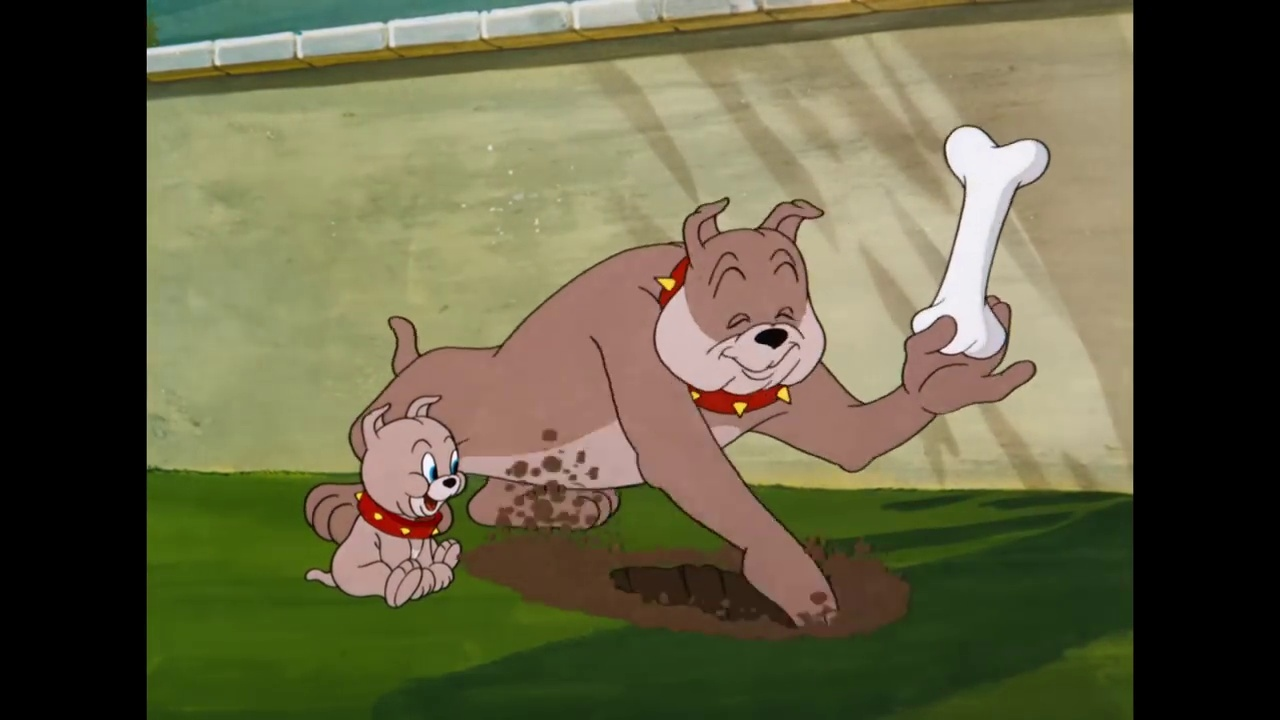spike: (645, 197, 830, 426)
